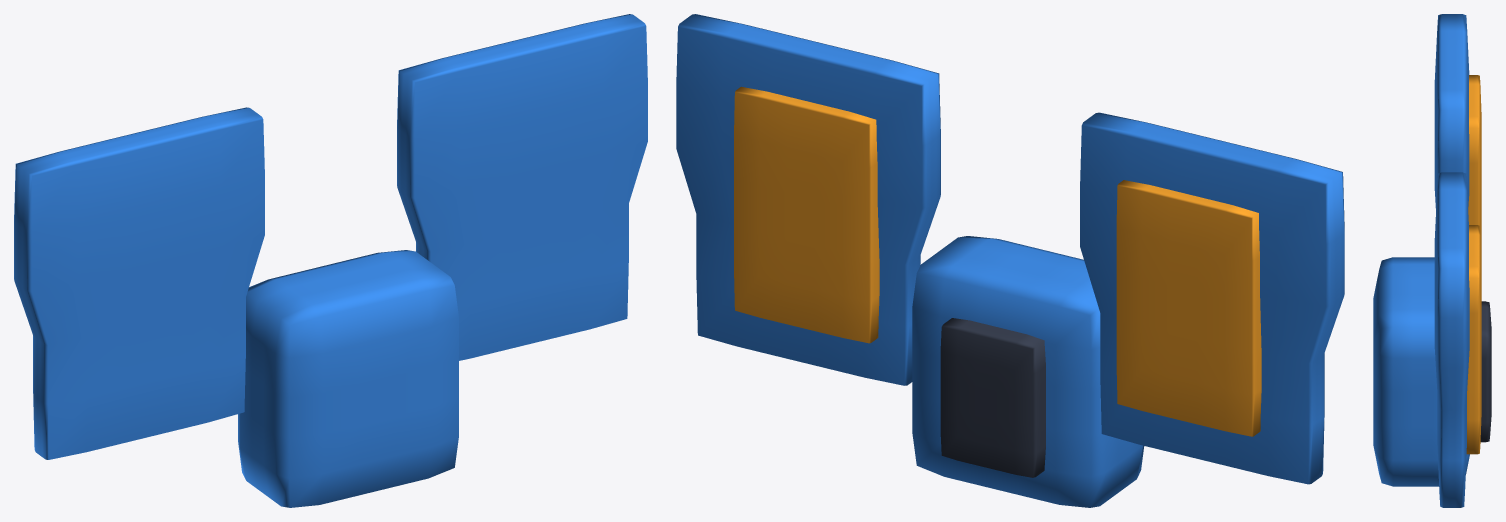
File: core_angelwings.obj
3 renders of one model, left to right at view 1: azimuth 30°, elevation 25°; view 2: azimuth 150°, elevation 25°; view 3: azimuth 270°, elevation 25°, orthographic. The views are drawn at different scales.
Size of the model in its own units: 1.23 by 0.71 by 0.24.
